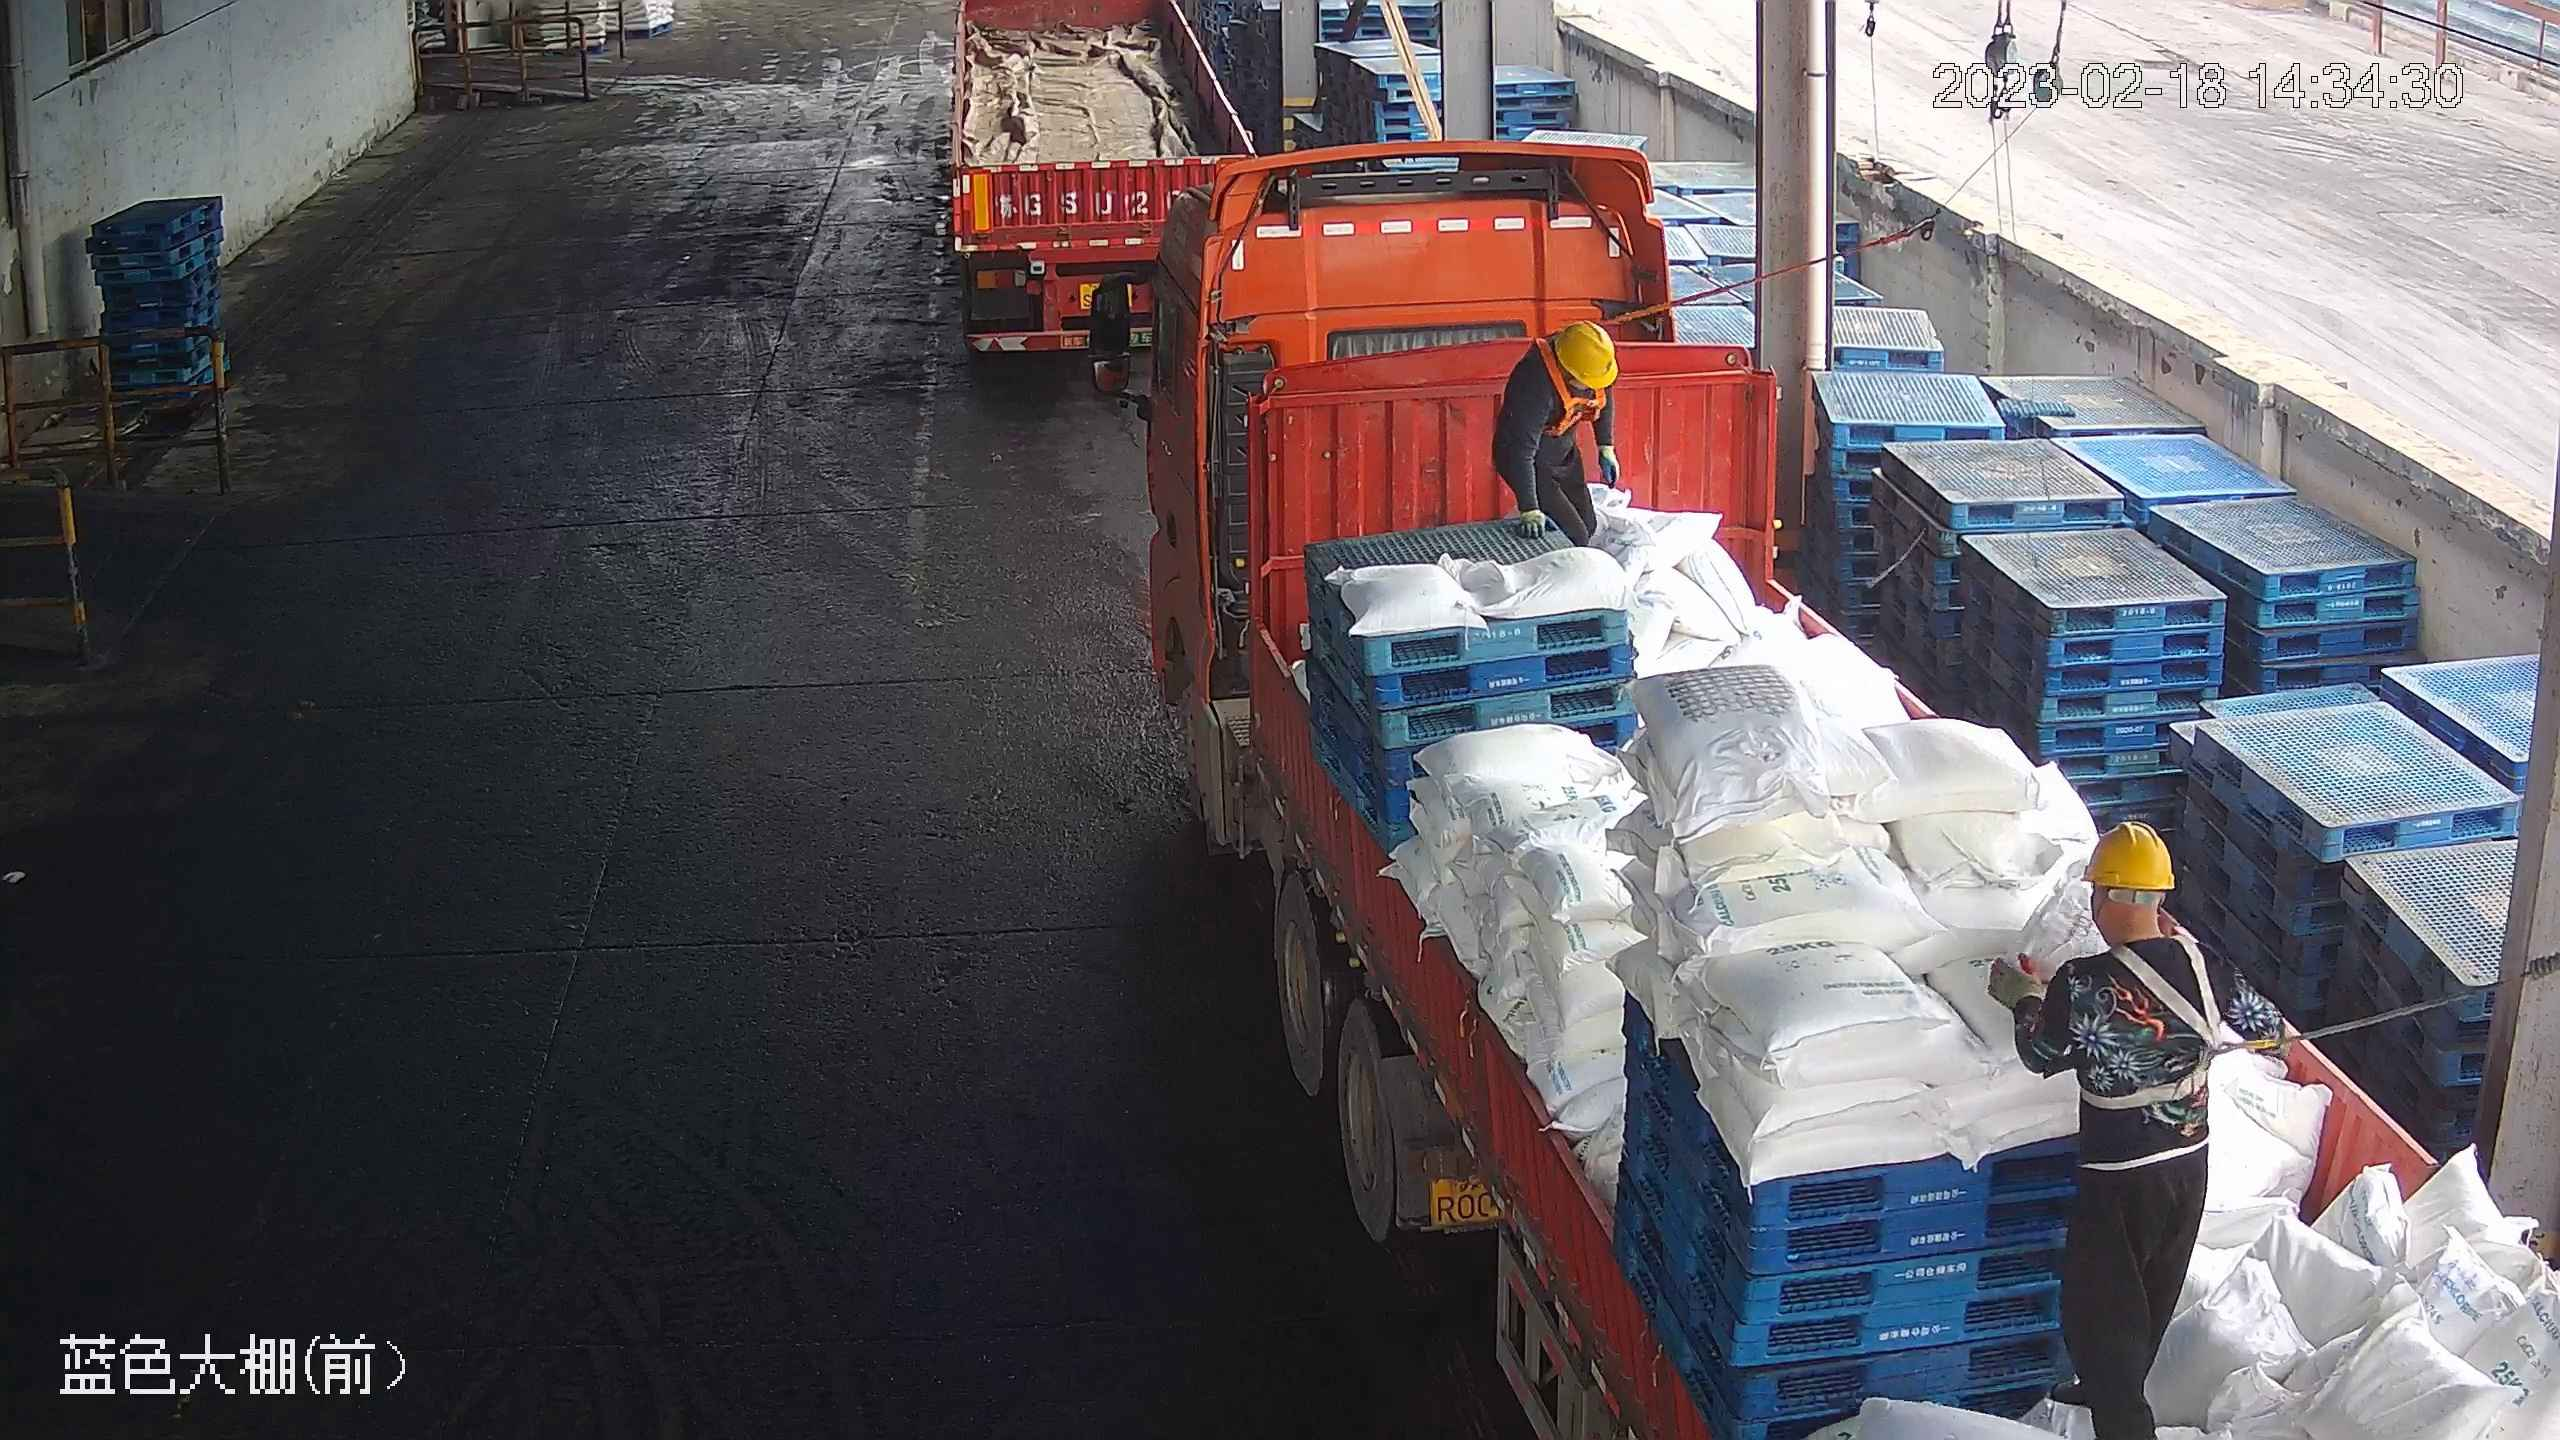belt: (2071, 932, 2284, 1117), (1529, 337, 1608, 439)
head: (2025, 822, 2234, 1054), (1498, 323, 1617, 425)
helmet: (2081, 823, 2174, 896), (1557, 320, 1620, 389)
people: (1983, 815, 2290, 1440), (1488, 318, 1630, 550)
truck: (1093, 137, 2560, 1440), (942, 1, 1271, 389)
